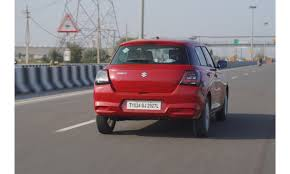Swift: (92, 37, 232, 135)
